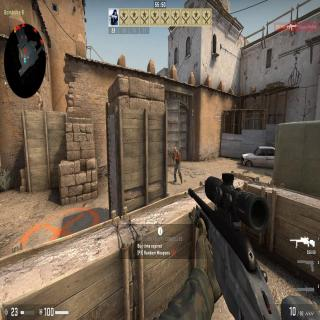T-Body: (172, 145, 182, 185)
T-Head: (174, 146, 176, 152)
